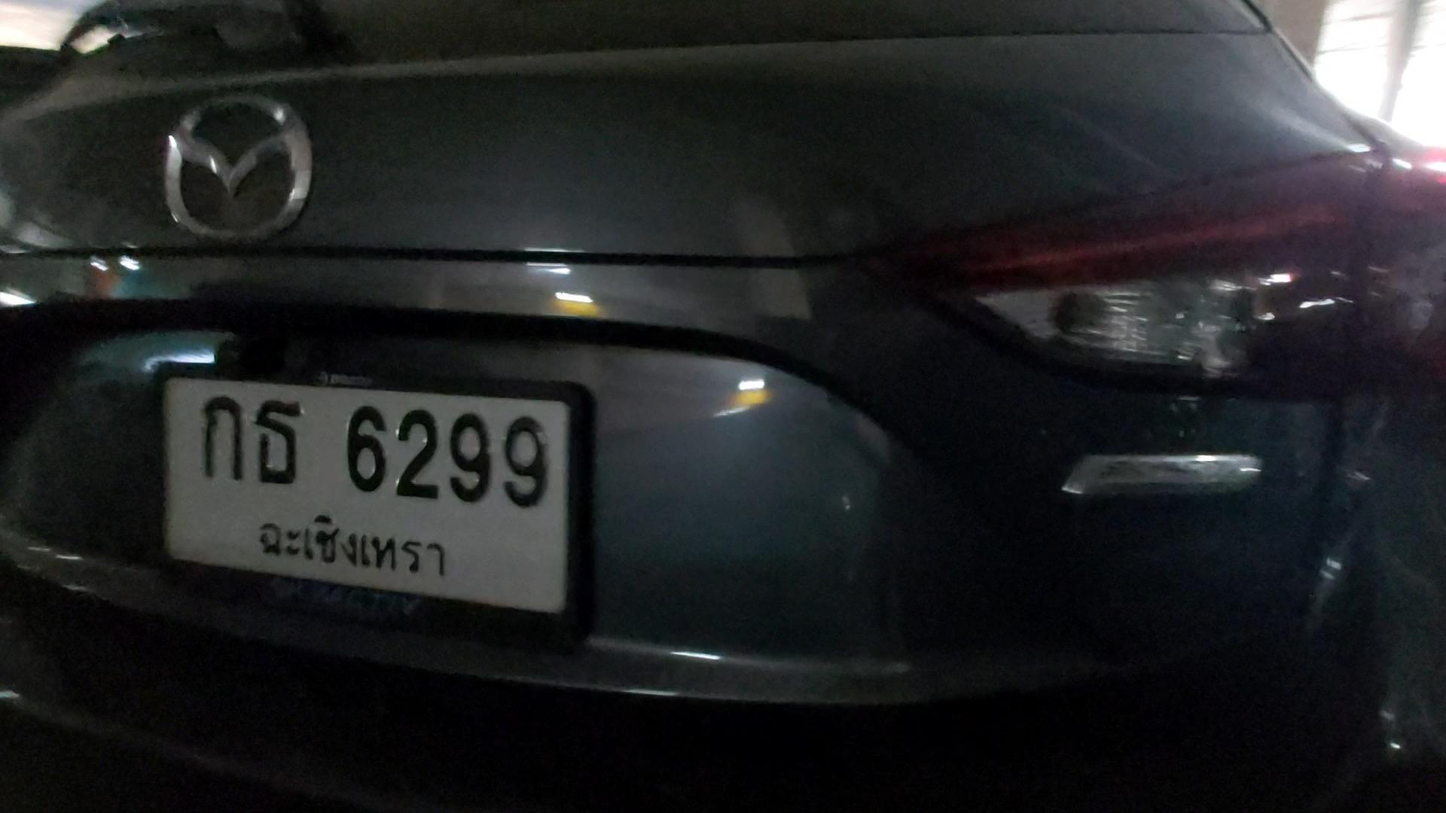license-plate: (166, 371, 571, 616)
